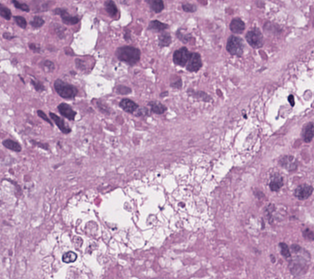nucleus: (115, 45, 140, 63), (49, 112, 70, 133), (54, 79, 77, 98), (226, 35, 243, 55), (173, 47, 190, 65), (246, 29, 262, 47), (57, 103, 75, 119), (186, 52, 201, 71), (119, 98, 138, 112), (2, 139, 20, 151), (269, 174, 282, 190), (149, 101, 166, 113), (37, 110, 51, 124), (158, 32, 171, 46), (177, 31, 192, 42), (62, 251, 76, 262), (31, 140, 48, 149), (31, 79, 43, 90), (116, 85, 130, 94), (29, 43, 40, 52), (44, 60, 53, 70), (171, 78, 181, 87), (137, 108, 147, 115), (3, 33, 14, 38)
